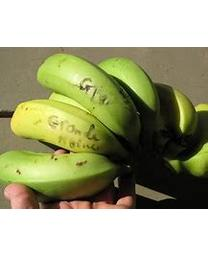banana: (0, 53, 205, 204)
